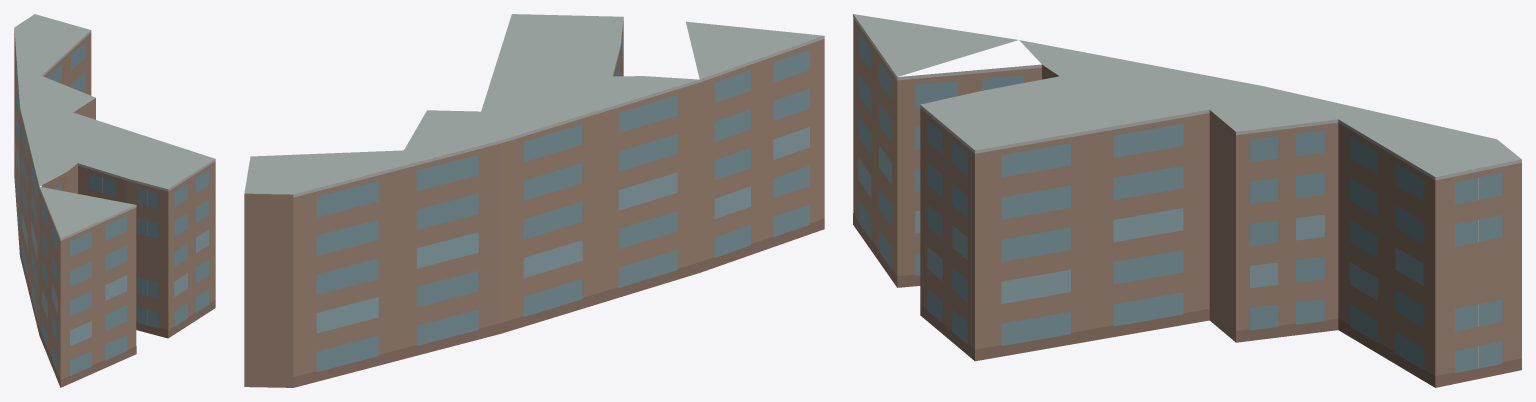
File: survey-upis-32495356.glb
3 views of the same model, side by side, from view 1: azimuth 30°, elevation 25°; view 2: azimuth 150°, elevation 25°; view 3: azimuth 270°, elevation 25° (orthographic). The views are drawn at different scales.
Visible parts, largest first — view 1: survey-upis-32495356.tmp; view 2: survey-upis-32495356.tmp; view 3: survey-upis-32495356.tmp.
Part boxes in pixels (x1,y1,x2,y2): survey-upis-32495356.tmp: [14, 14, 215, 387]; survey-upis-32495356.tmp: [244, 14, 824, 387]; survey-upis-32495356.tmp: [853, 14, 1521, 387].
Size of the model in its own units: 25.75 by 15.5 by 44.58.
